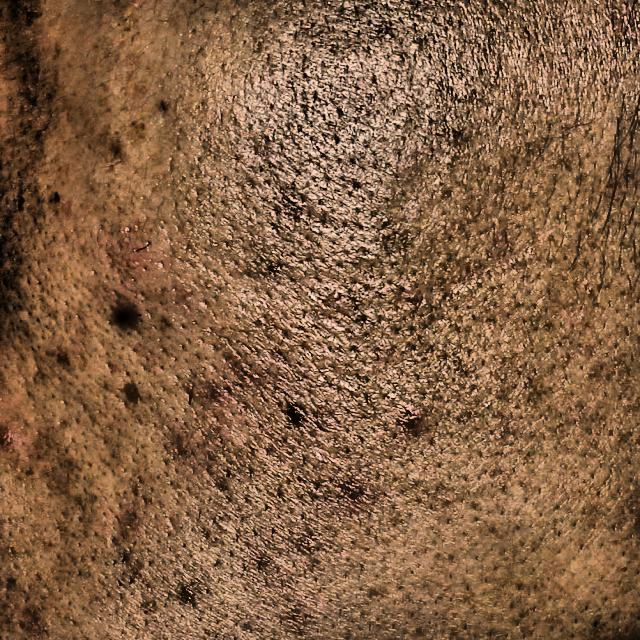whiteheads: (106, 302, 140, 336), (279, 399, 308, 428)
